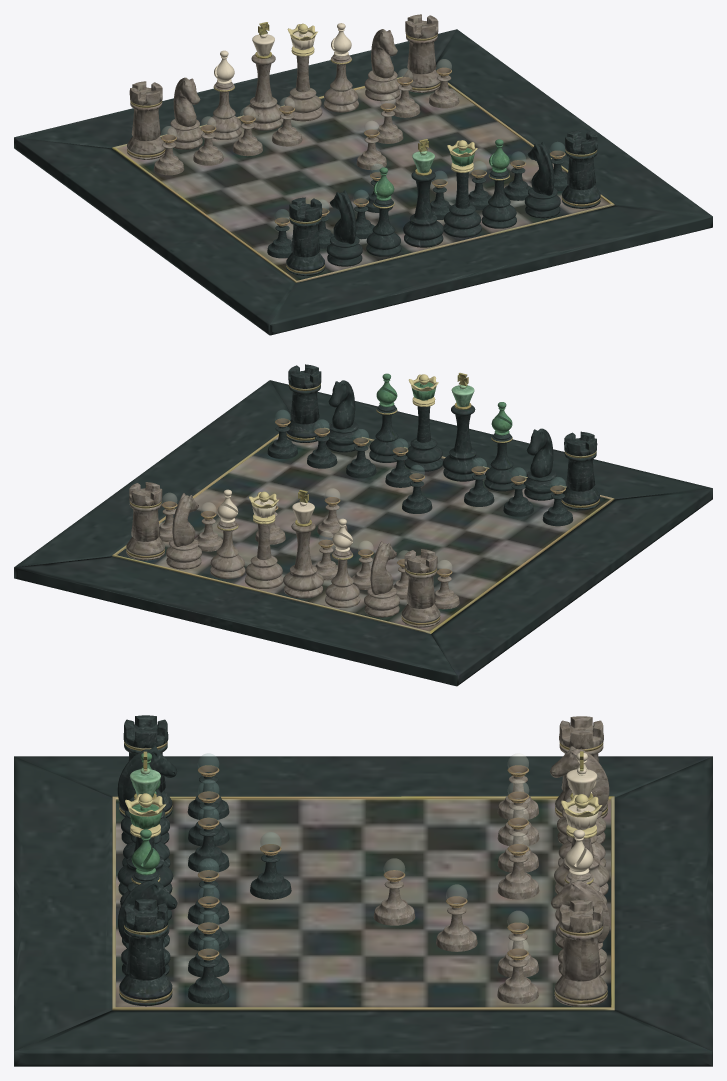
Rendered from schach.glb.
3 renders of one model, top to bottom at view 1: azimuth 30°, elevation 25°; view 2: azimuth 150°, elevation 25°; view 3: azimuth 270°, elevation 25°, orthographic. The views are drawn at different scales.
Parts seen in each view (by area): view 1: Chessboard, Pawn_Body_Shared (×13), Castle_B2, Castle_B1, Castle_W2, King_B, Castle_W1, Queen_B, King_W, Queen_W, Knight_W1, Knight_B1 (+6 smaller); view 2: Chessboard, Pawn_Body_Shared (×13), Castle_W2, Castle_W1, Castle_B1, King_W, Castle_B2, King_B, Queen_W, Queen_B, Knight_W2, Knight_W1 (+6 smaller); view 3: Chessboard, Pawn_Body_Shared (×16), Castle_B2, Castle_W1, Castle_B1, Castle_W2, Knight_B1, Knight_W2, King_W, King_B, Queen_B, Queen_W (+6 smaller).
Part boxes in pixels (x1,y1,x2,y2): Chessboard: [14, 29, 712, 335]; Pawn_Body_Shared (×13): [154, 67, 531, 258]; Castle_B2: [562, 130, 600, 208]; Castle_B1: [286, 197, 324, 275]; Castle_W2: [127, 81, 165, 159]; King_B: [403, 139, 443, 247]; Castle_W1: [403, 14, 440, 92]; Queen_B: [443, 140, 481, 237]; King_W: [243, 22, 283, 130]; Queen_W: [284, 23, 322, 121]; Knight_W1: [364, 29, 400, 101]; Knight_B1: [326, 190, 362, 266]; Chessboard: [14, 380, 712, 686]; Pawn_Body_Shared (×13): [195, 418, 573, 609]; Castle_W2: [401, 549, 440, 627]; Castle_W1: [126, 482, 165, 560]; Castle_B1: [561, 431, 599, 510]; King_W: [283, 489, 323, 598]; Castle_B2: [286, 364, 323, 442]; King_B: [442, 373, 483, 481]; Queen_W: [244, 491, 283, 588]; Queen_B: [404, 374, 442, 471]; Knight_W2: [364, 541, 399, 617]; Knight_W1: [166, 493, 201, 569]; Chessboard: [14, 756, 712, 1066]; Pawn_Body_Shared (×16): [187, 765, 539, 1004]; Castle_B2: [119, 899, 172, 1006]; Castle_W1: [554, 900, 607, 1006]; Castle_B1: [119, 715, 172, 817]; Castle_W2: [555, 716, 607, 818]; Knight_B1: [117, 746, 177, 844]; Knight_W2: [550, 746, 609, 844]; King_W: [554, 751, 609, 895]; King_B: [117, 751, 173, 895]; Queen_B: [120, 793, 171, 920]; Queen_W: [555, 794, 607, 921].
Bounding box in the file's own units: 0.7054 × 0.169 × 0.7054.
15 materials, 13 textured.
